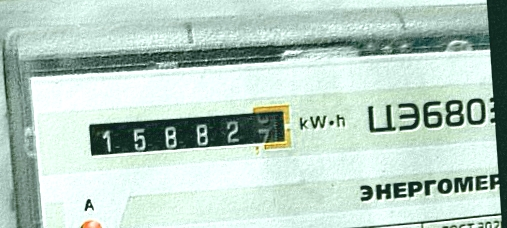1: (101, 127, 114, 154)
2: (224, 118, 242, 144)
5: (132, 126, 147, 153)
7: (256, 125, 272, 143)
8: (163, 123, 180, 149), (195, 121, 211, 147)
screen: (79, 98, 301, 170)
